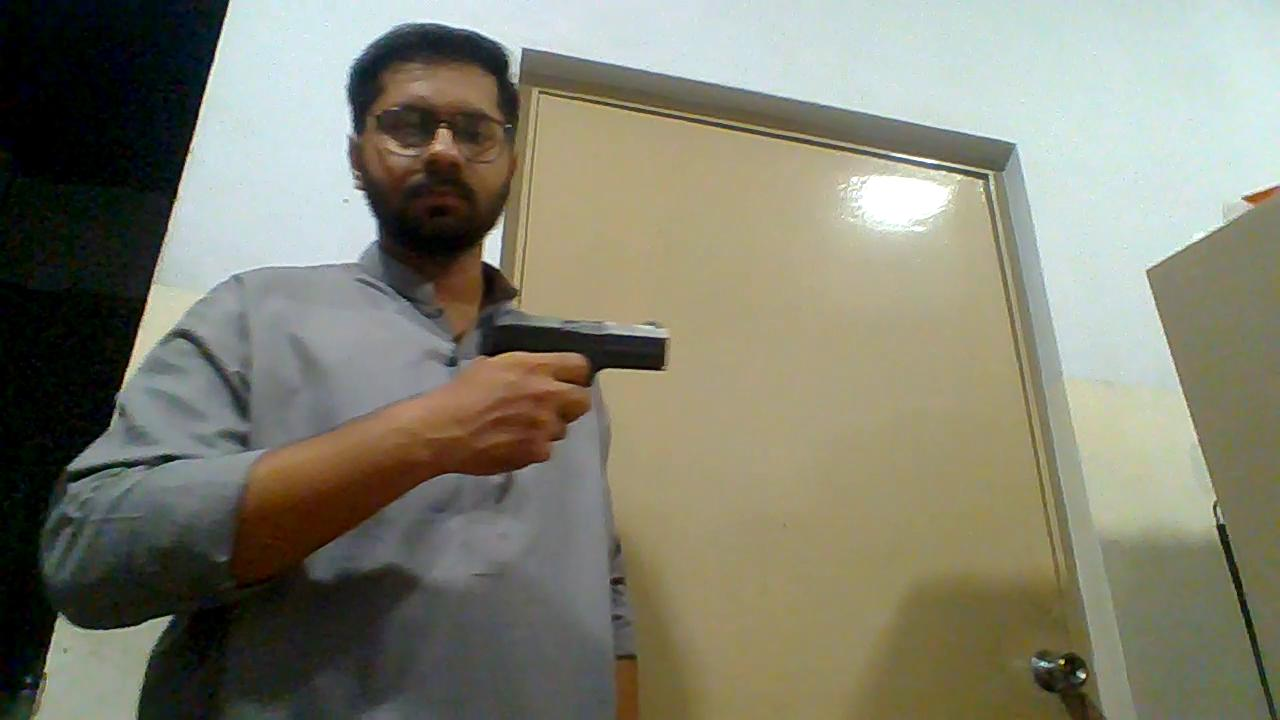criminal: (40, 22, 672, 720)
weapon: (472, 314, 672, 391)
